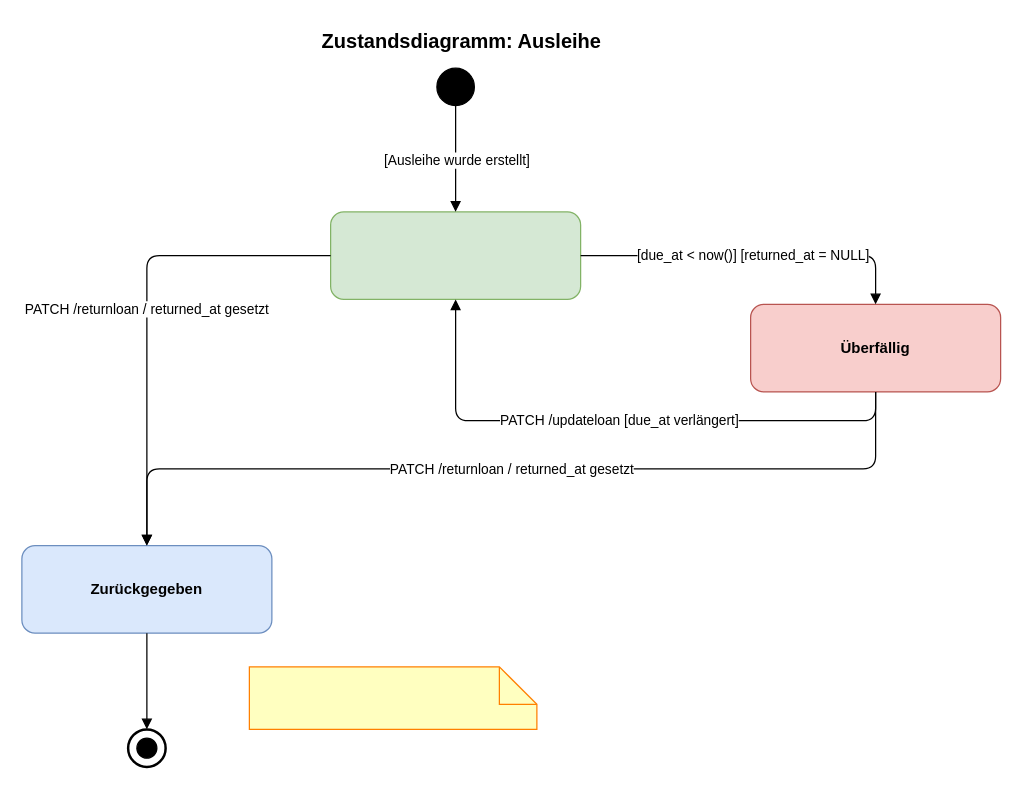
Image size: 1023x789. Some labels were removed from this diagram. The shapes that lost their labels are listed below. From the top down, each one's centre as x and y in pixels, then its label:
At [455,255]: "Aktiv".
At [392,697]: "Seiteneffekt bei Rückgabe: ToolItem.status → AVAILABLE oder DEFECT".
